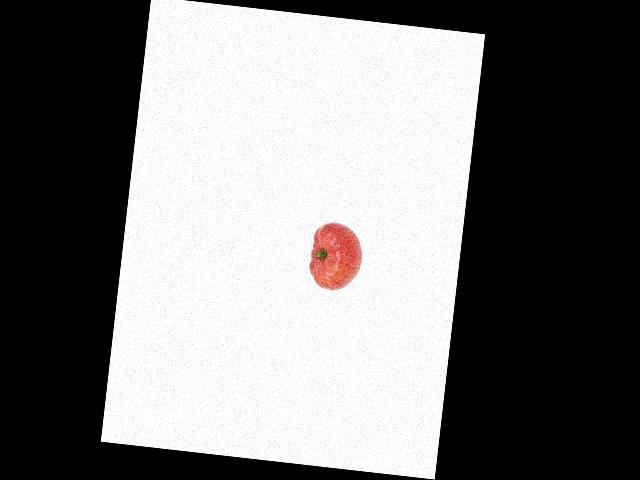tomato: (308, 221, 365, 293)
